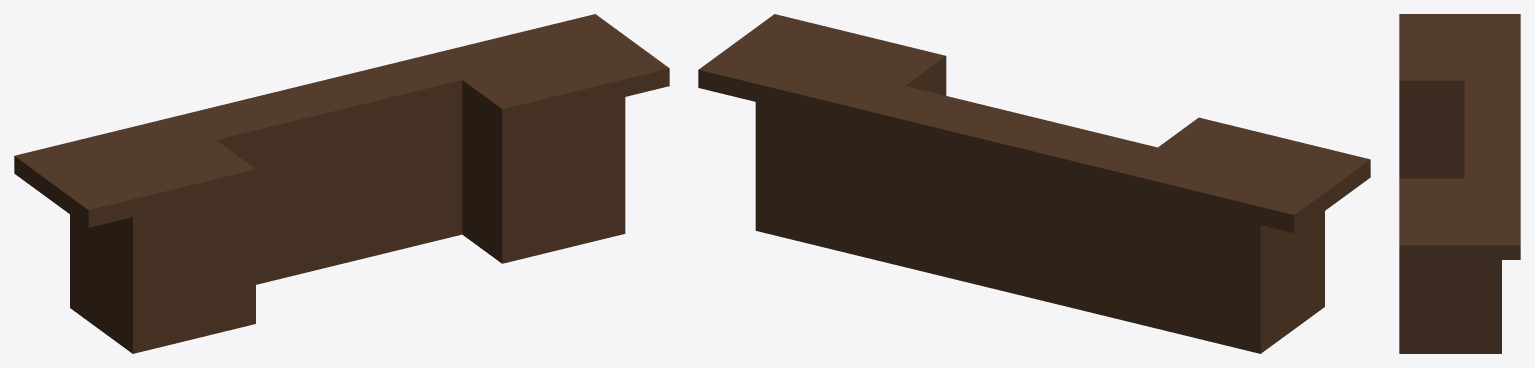
Rendered from bar.fbx.
3 views of the same model, side by side, from view 1: azimuth 30°, elevation 25°; view 2: azimuth 150°, elevation 25°; view 3: azimuth 270°, elevation 25° (orthographic). The views are drawn at different scales.
Parts seen in each view (by area): view 1: Cube; view 2: Cube; view 3: Cube.
Part boxes in pixels (x1=…): Cube: x1=14, y1=14, x2=669, y2=353; Cube: x1=698, y1=14, x2=1370, y2=353; Cube: x1=1399, y1=14, x2=1520, y2=353.
Size of the model in its own units: 433 by 110 by 95.77.
